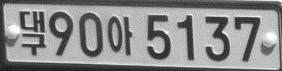0: (78, 11, 104, 58)
1: (174, 14, 200, 60)
3: (204, 16, 231, 61)
5: (146, 13, 171, 61)
7: (234, 16, 261, 61)
9: (47, 10, 74, 56)
대구_V: (18, 9, 46, 56)
아: (106, 14, 134, 56)
